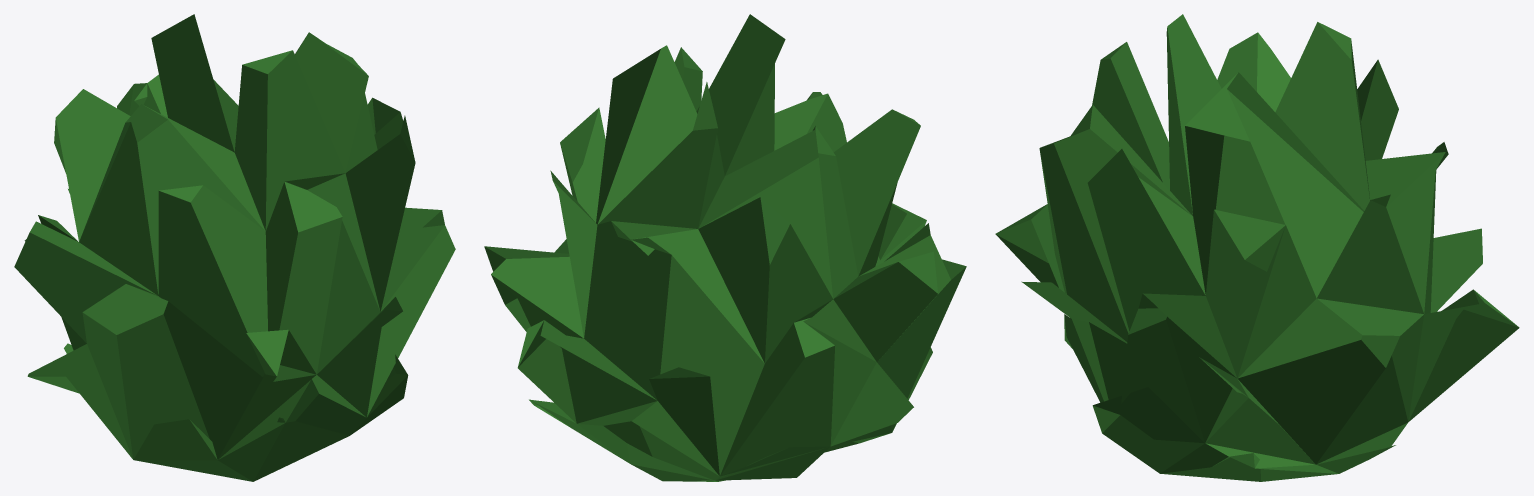
File: Dandelion_Buisson1_Clair.FBX
3 views of the same model, side by side, from view 1: azimuth 30°, elevation 25°; view 2: azimuth 150°, elevation 25°; view 3: azimuth 270°, elevation 25° (orthographic). The views are drawn at different scales.
Parts seen in each view (by area): view 1: Hedra027; view 2: Hedra027; view 3: Hedra027.
Part boxes in pixels (<box>): Hedra027: <box>14,14,455,481</box>; Hedra027: <box>484,14,966,481</box>; Hedra027: <box>995,14,1519,481</box>.
Size of the model in its own units: 594 by 603 by 621.
